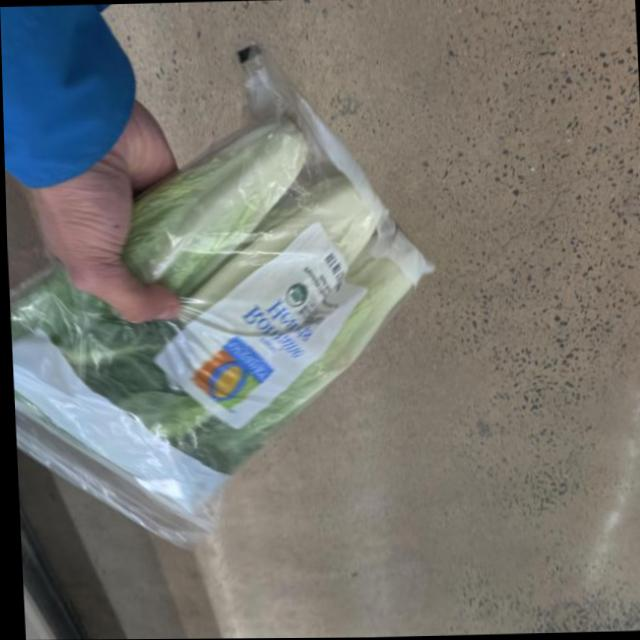Lettuce: (2, 87, 422, 518)
